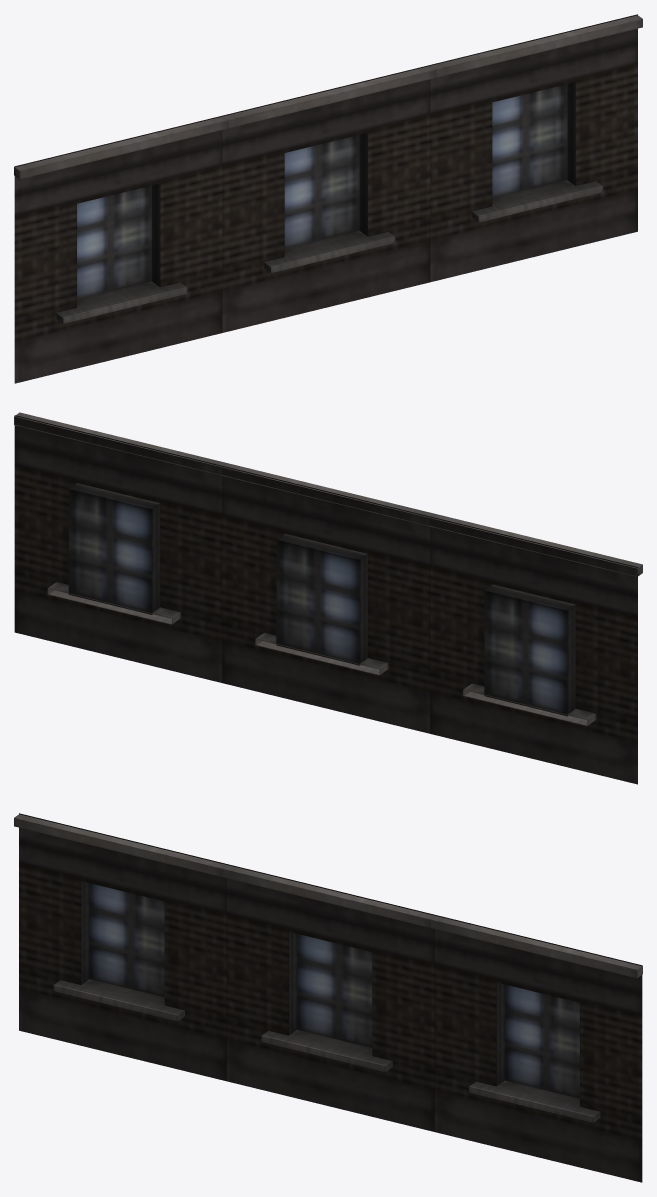
Rendered from B10_WindowA3x.FBX.
The picture shows the model from 3 angles, top to bottom: view 1: azimuth 30°, elevation 25°; view 2: azimuth 150°, elevation 25°; view 3: azimuth 330°, elevation 25°; orthographic projection.
Visible parts, largest first — view 1: B10_WindowA3x; view 2: B10_WindowA3x; view 3: B10_WindowA3x.
Boxes of the visible parts, box(x1,y1,x2,y2) form: B10_WindowA3x: box(14, 14, 642, 383); B10_WindowA3x: box(14, 412, 642, 784); B10_WindowA3x: box(14, 813, 642, 1182).
Bounding box in the file's own units: 12 × 4 × 0.5323.
